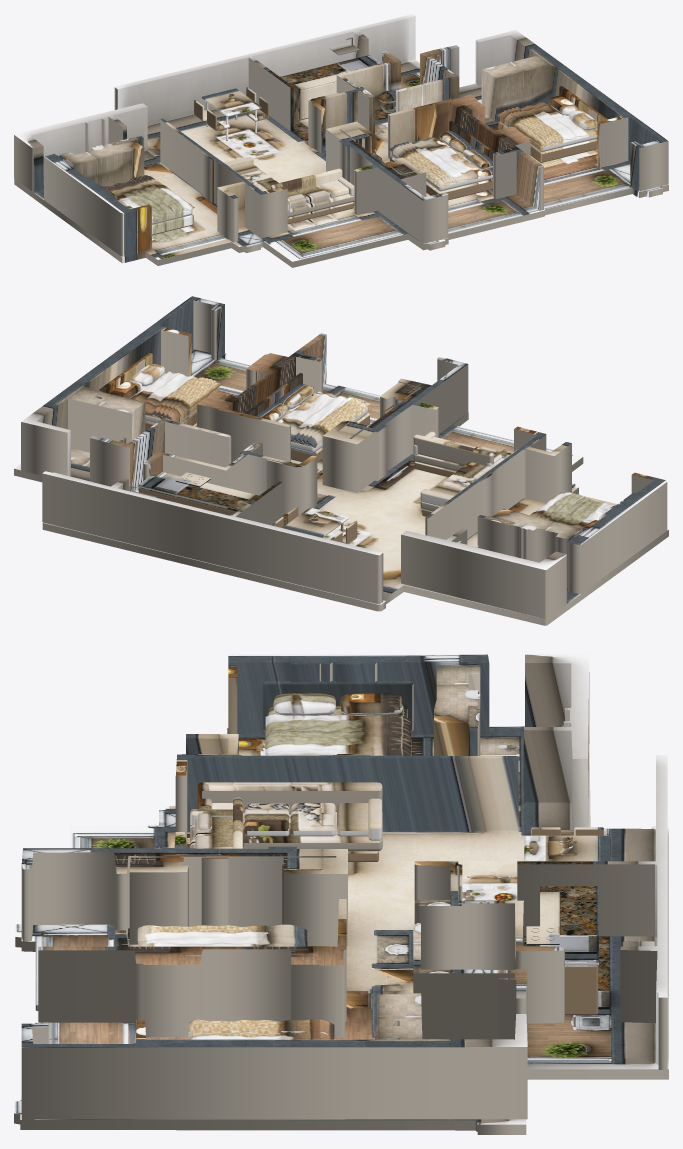
File: p6-04-u05-2110-image-model.glb
The picture shows the model from 3 angles, top to bottom: view 1: azimuth 30°, elevation 25°; view 2: azimuth 150°, elevation 25°; view 3: azimuth 270°, elevation 25°; orthographic projection. The views are drawn at different scales.
Parts seen in each view (by area): view 1: Partition walls, Apartment floor, Draped bed linen.002, Draped bed linen.004, Stone worktop, Draped bed linen, Marble dining top, Walnut upholstered base.002, Kitchen cabinets, Sofa back.001, Draped bed linen.003, Draped bed linen.001 (+13 smaller); view 2: Partition walls, Apartment floor, Stone worktop, Draped bed linen.002, Draped bed linen.004, Sofa back.001, Draped bed linen, Marble dining top, Draped bed linen.003, Draped bed linen.005, Kitchen cabinets, Draped bed linen.001 (+3 smaller); view 3: Partition walls, Apartment floor, Draped bed linen, Stone worktop, Sofa back, Upholstered headboard, Marble dining top, Draped bed linen.003, Draped bed linen.001, Upholstered sofa frame, Draped bed linen.005, Kitchen cabinets (+7 smaller).
Boxes of the visible parts, x1,y1,x2,y2 form: Partition walls: [14, 14, 668, 256]; Apartment floor: [14, 59, 668, 267]; Draped bed linen.002: [389, 137, 485, 185]; Draped bed linen.004: [497, 102, 588, 146]; Stone worktop: [280, 55, 381, 91]; Draped bed linen: [104, 176, 194, 218]; Marble dining top: [201, 88, 261, 116]; Walnut upholstered base.002: [498, 122, 597, 162]; Kitchen cabinets: [293, 82, 336, 121]; Sofa back.001: [271, 168, 342, 192]; Draped bed linen.003: [394, 141, 458, 184]; Draped bed linen.001: [130, 175, 189, 212]; Partition walls: [21, 296, 667, 618]; Apartment floor: [14, 349, 668, 625]; Stone worktop: [137, 471, 258, 511]; Draped bed linen.002: [277, 391, 370, 447]; Draped bed linen.004: [132, 371, 222, 421]; Sofa back.001: [413, 434, 493, 465]; Draped bed linen: [530, 492, 613, 528]; Marble dining top: [282, 507, 348, 537]; Draped bed linen.003: [292, 397, 365, 444]; Draped bed linen.005: [151, 377, 216, 419]; Kitchen cabinets: [138, 487, 237, 515]; Draped bed linen.001: [532, 492, 585, 520]; Partition walls: [21, 654, 667, 1119]; Apartment floor: [14, 726, 668, 1134]; Draped bed linen: [265, 714, 410, 755]; Stone worktop: [540, 886, 598, 965]; Sofa back: [197, 782, 382, 811]; Upholstered headboard: [262, 681, 413, 731]; Marble dining top: [524, 835, 610, 861]; Draped bed linen.003: [137, 924, 307, 943]; Draped bed linen.001: [265, 735, 411, 755]; Upholstered sofa frame: [243, 811, 382, 851]; Draped bed linen.005: [188, 1019, 334, 1038]; Kitchen cabinets: [565, 965, 598, 1014].
Size of the model in its own units: 13.49 by 1.3 by 9.37.
Materials: 13 (3 with a texture image).
